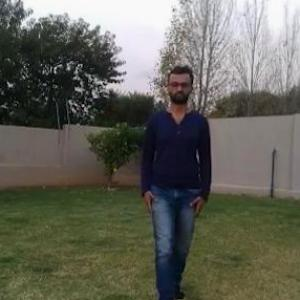follow: (142, 70, 204, 299)
